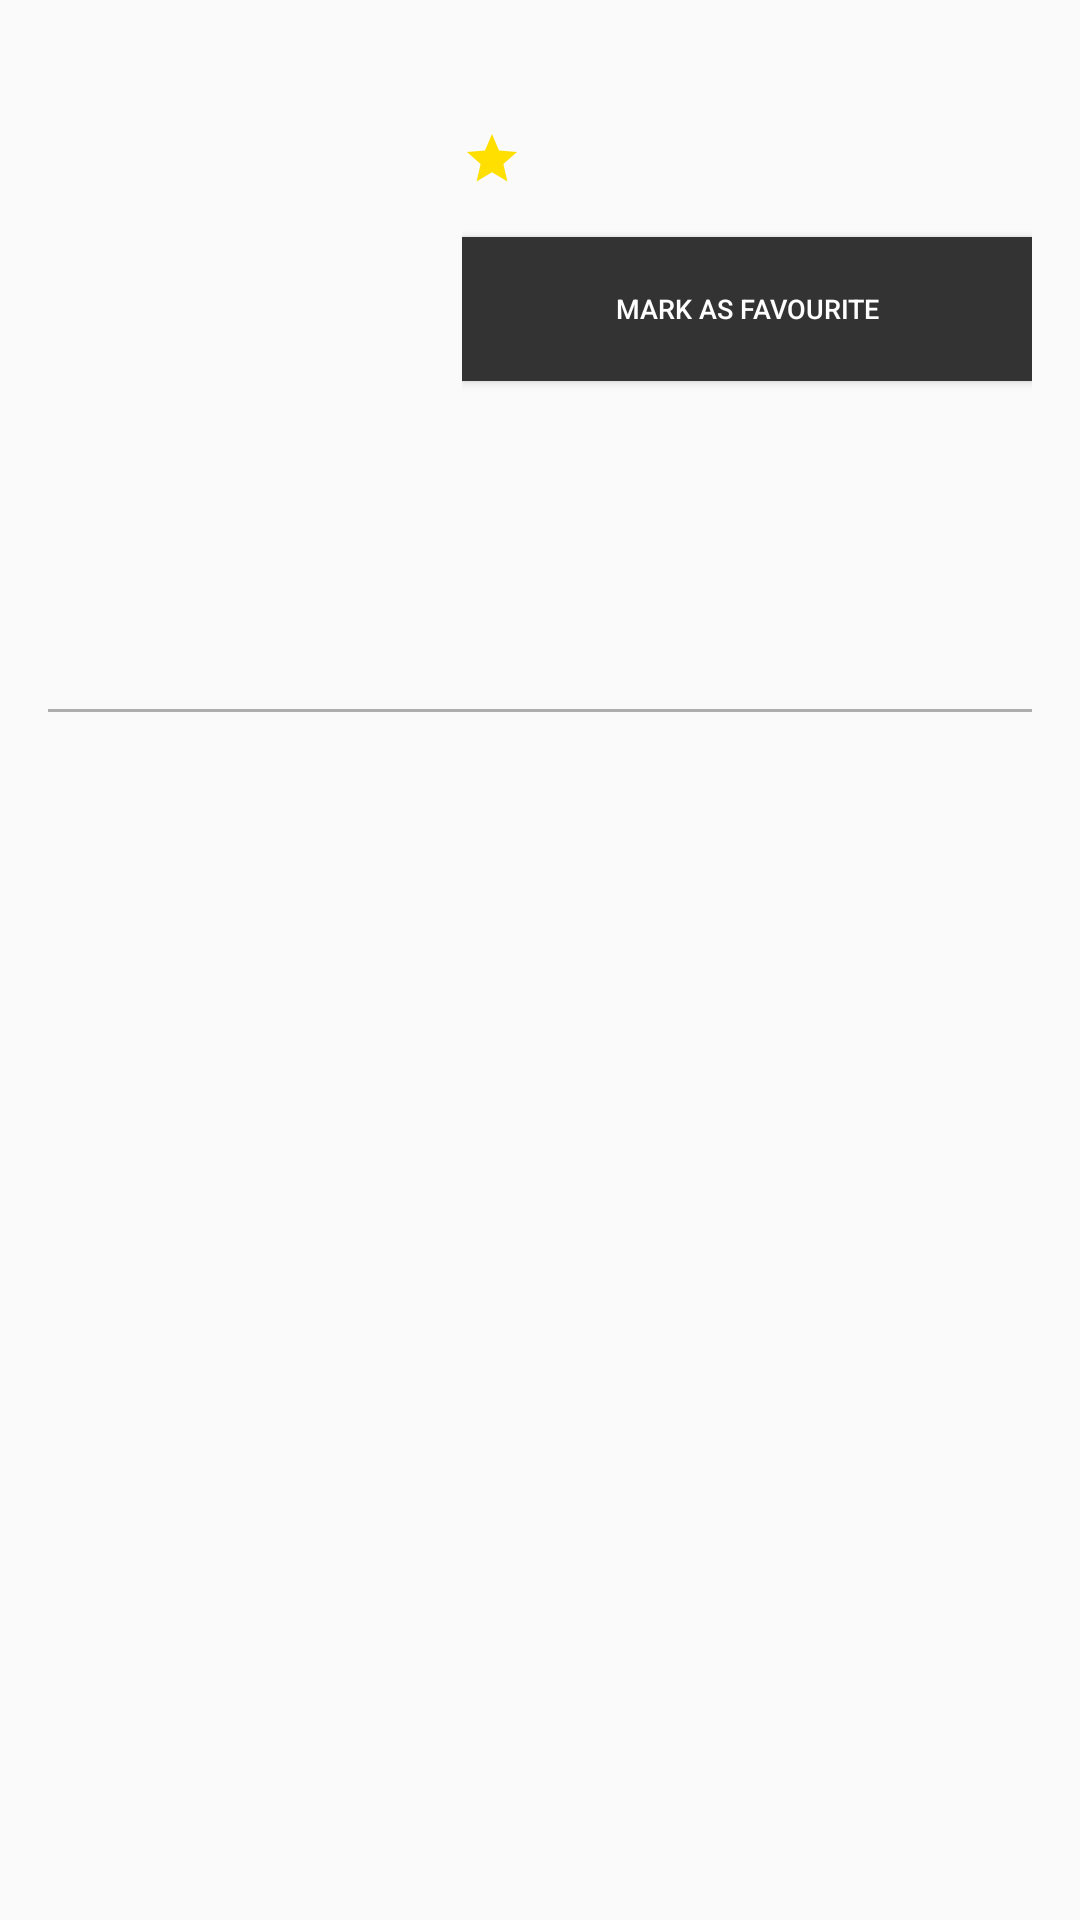

Point at icon controls on the screen. Image size 1080px×1920px, points as (x=x, y=y).
star: (x=492, y=158)
